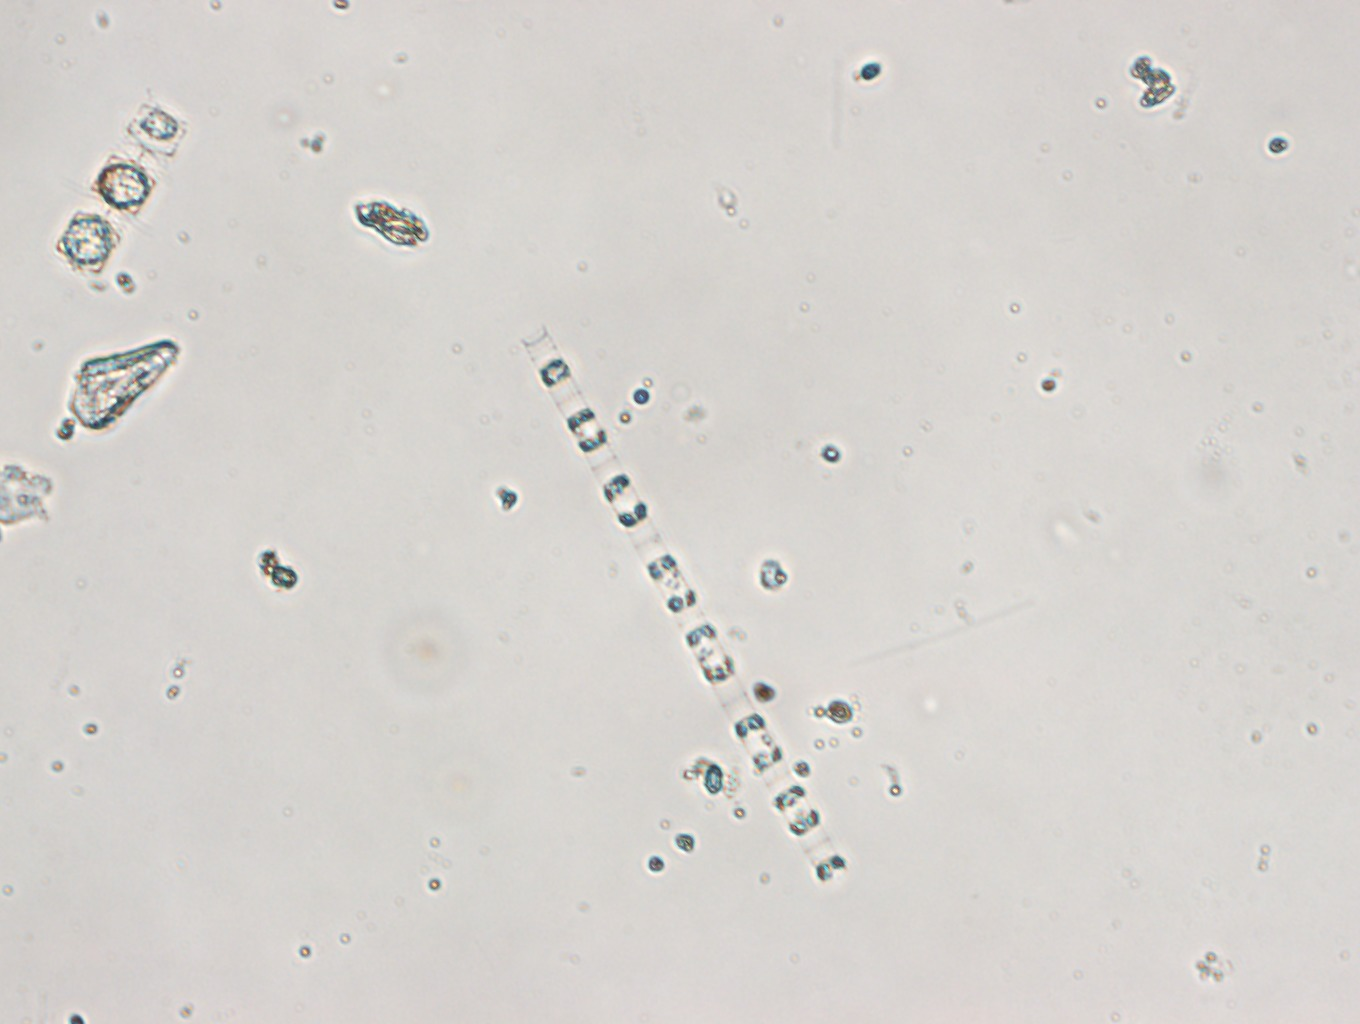skeletonema: (532, 315, 858, 892)
